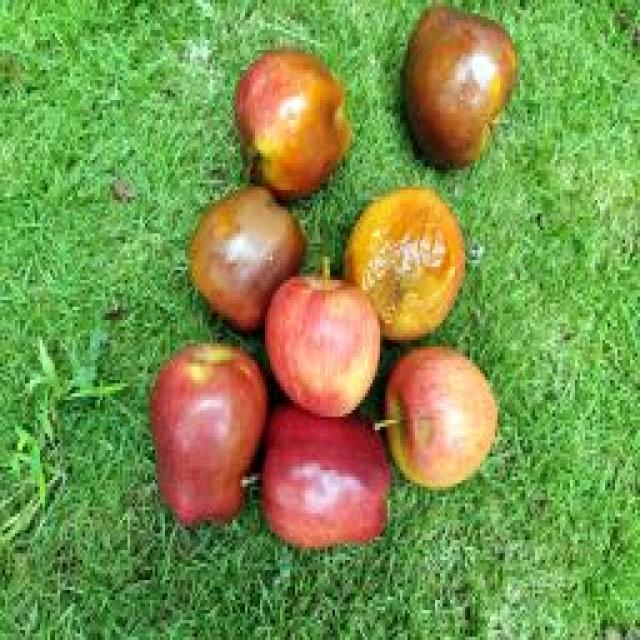Organik: (234, 406, 397, 568), (386, 5, 527, 182), (136, 323, 266, 511), (345, 179, 482, 344), (221, 44, 352, 199), (377, 340, 502, 490), (265, 262, 385, 414), (183, 185, 305, 329)
